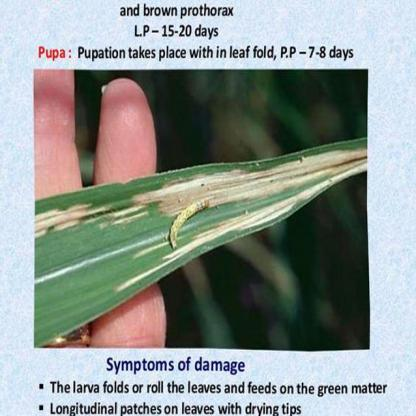leaf-folder: (158, 190, 218, 251)
